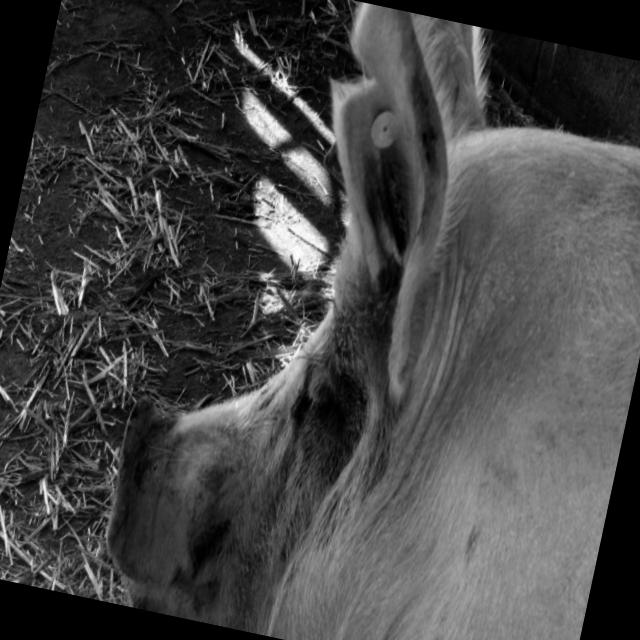pig: (104, 1, 640, 640)
